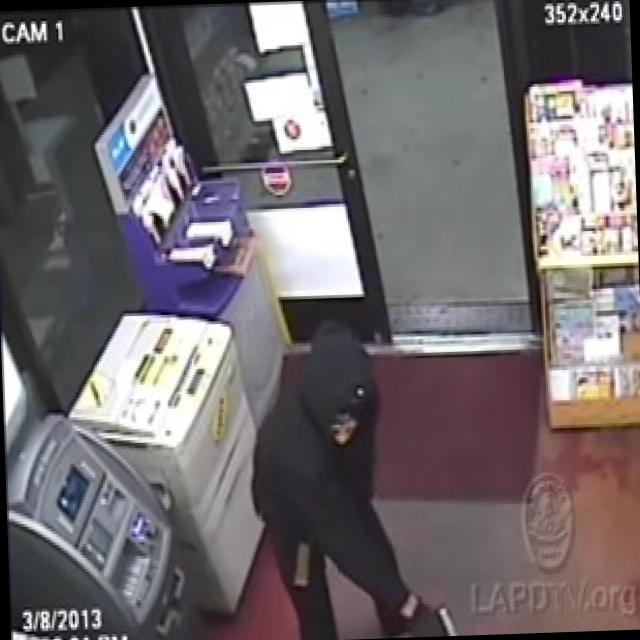Gun: (402, 583, 476, 639)
